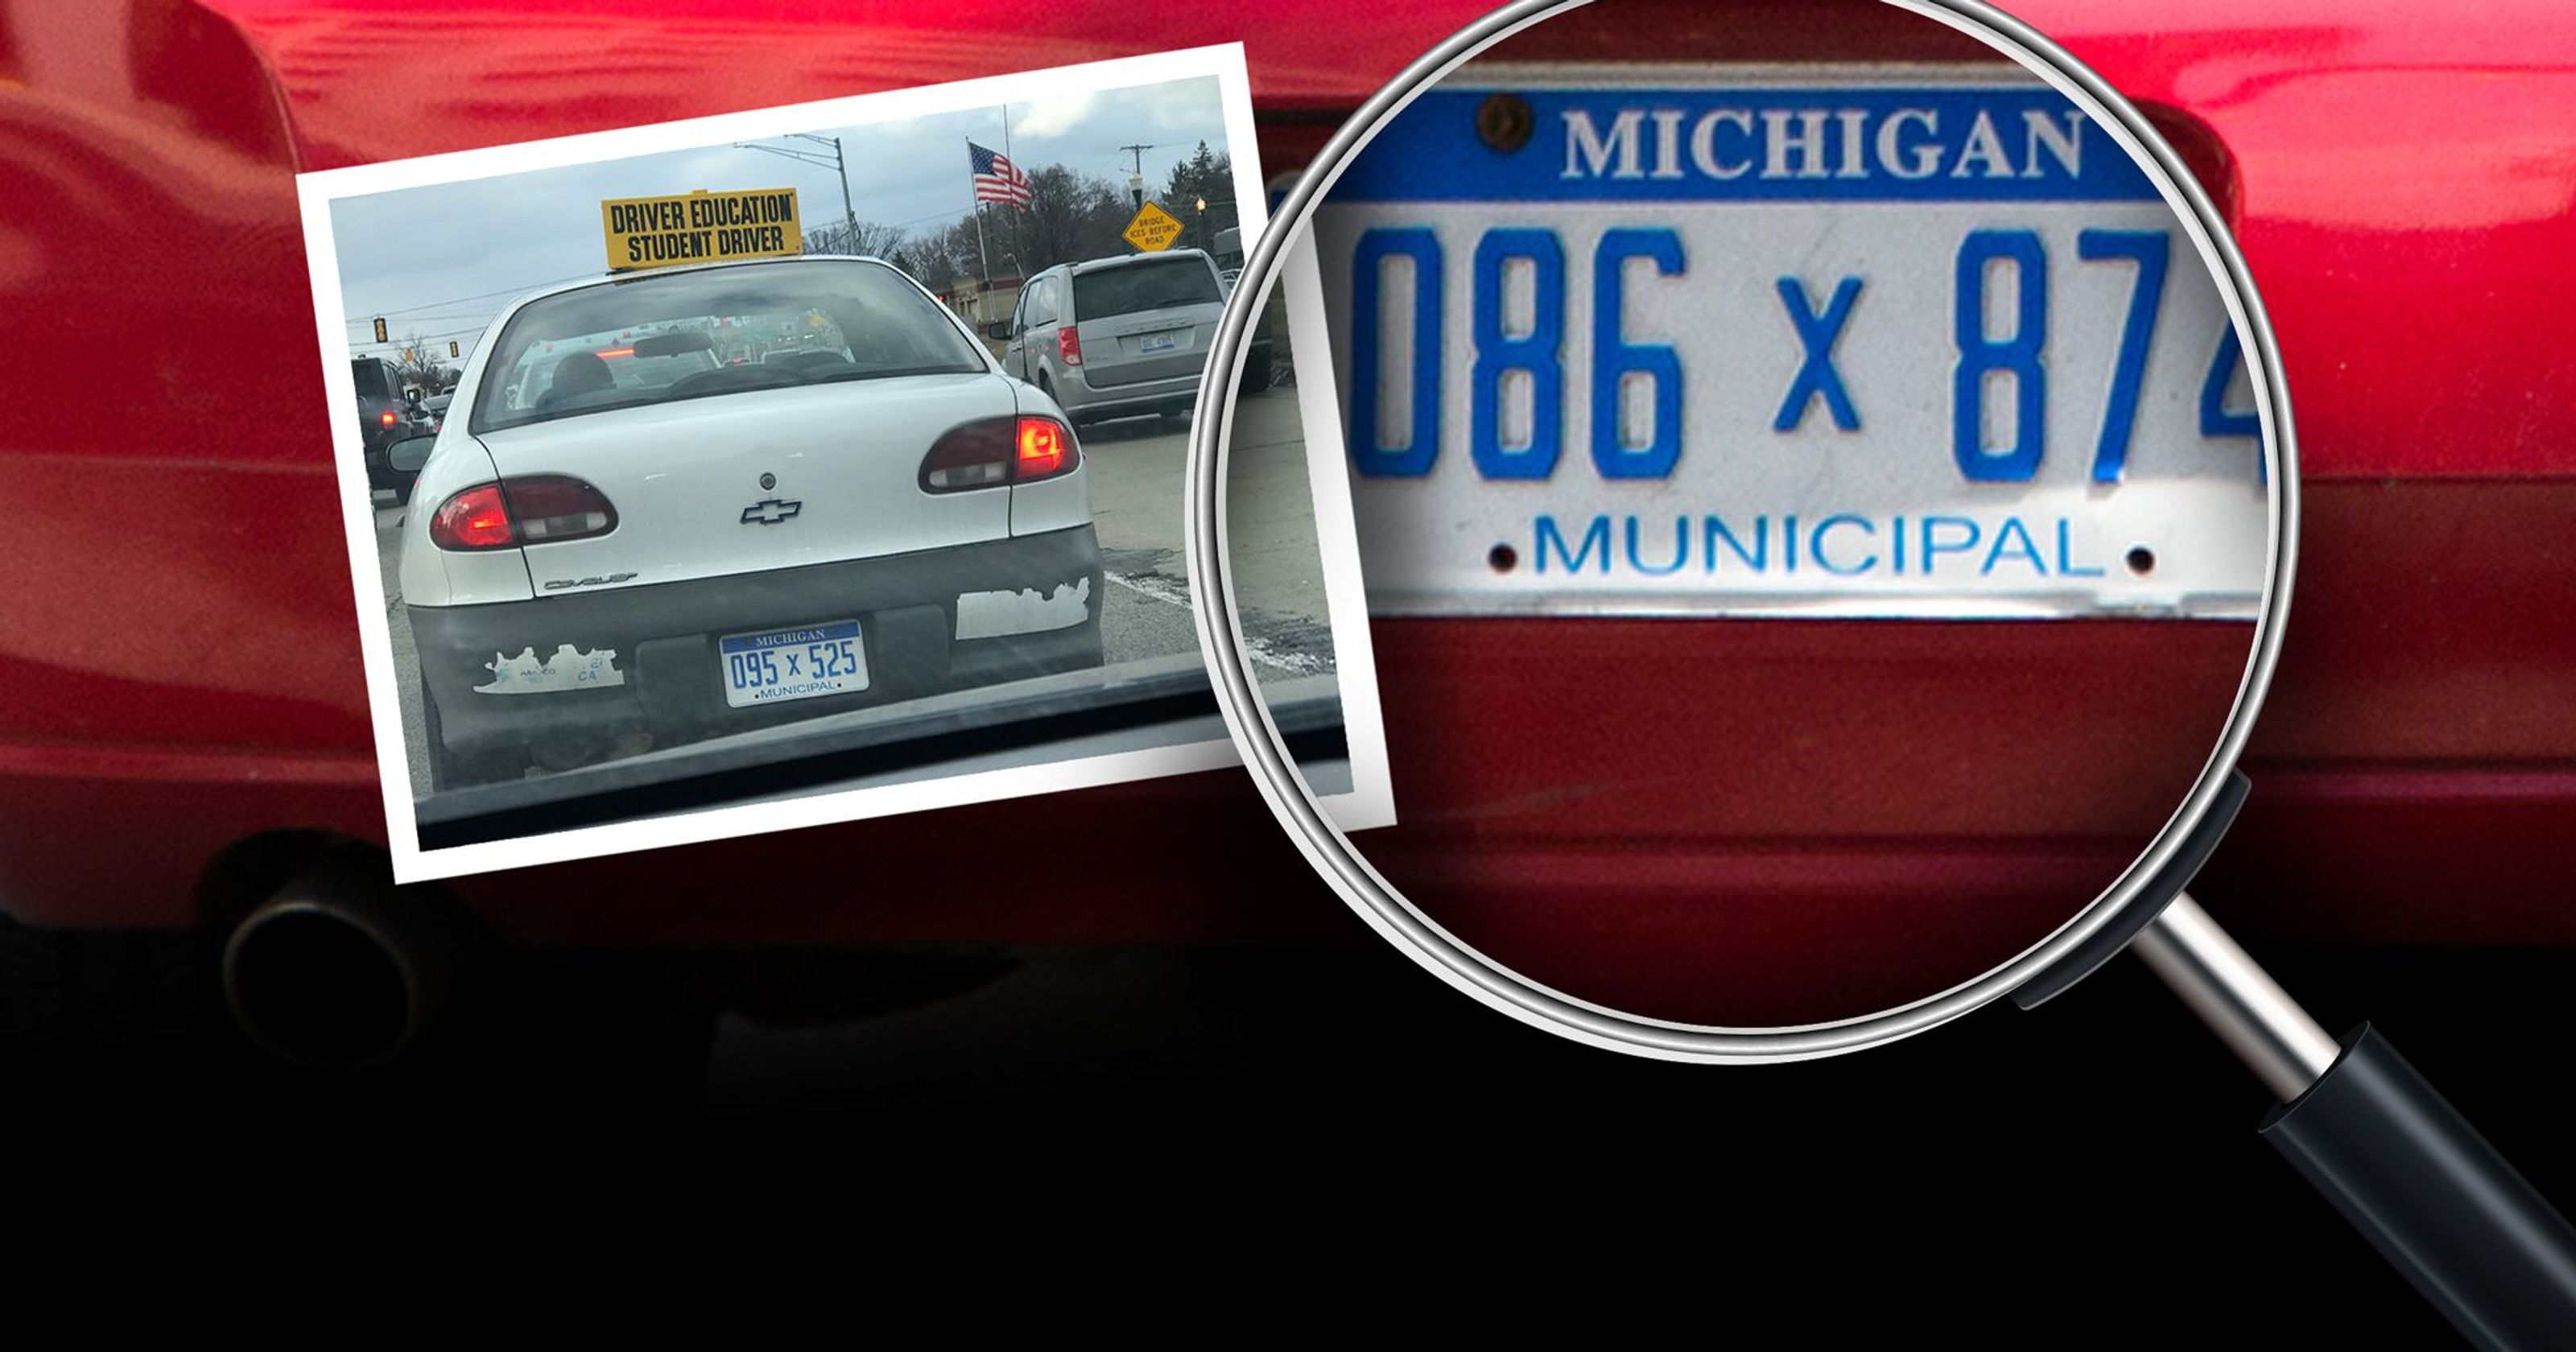license plate: (708, 632, 887, 699)
